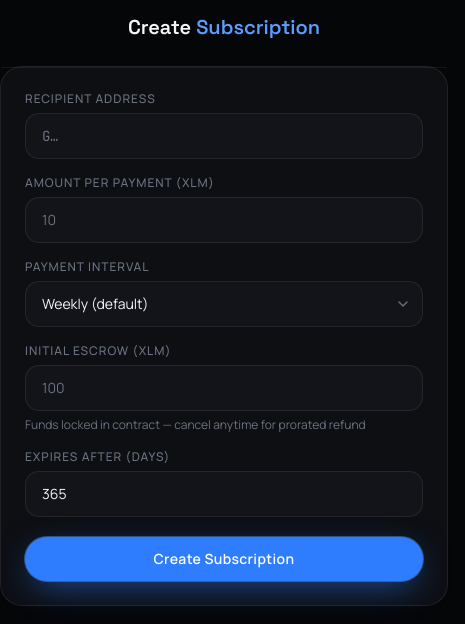
Scenario: SubscribeForm › shows error when initial escrow is less than payment amount
In the field labelled "Recipient Address": (224, 136) [25,113,423,159], type "GAZ4FWKYGV2LIQFIVHI6ZLY6GU34TVYEQWZEKIRNJNW2R5UWXZXKEQRZ"
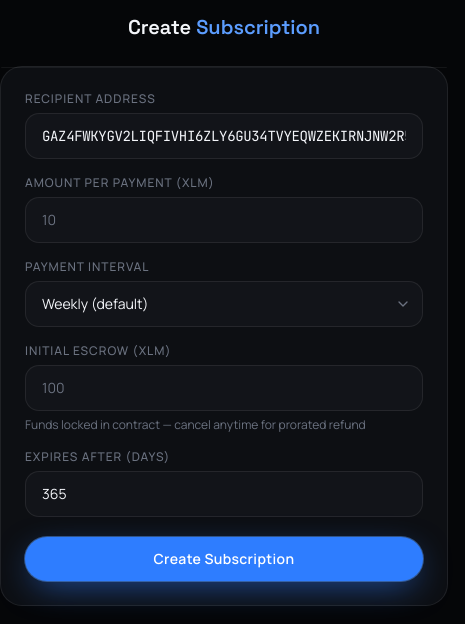
In the field labelled "Amount per Payment (XLM)": (224, 220) [25,197,423,243], type "100"
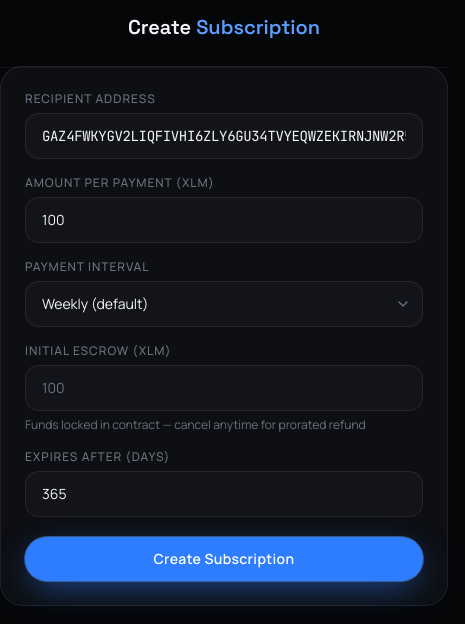
In the field labelled "Initial Escrow (XLM)": (224, 388) [25,365,423,411], type "50"
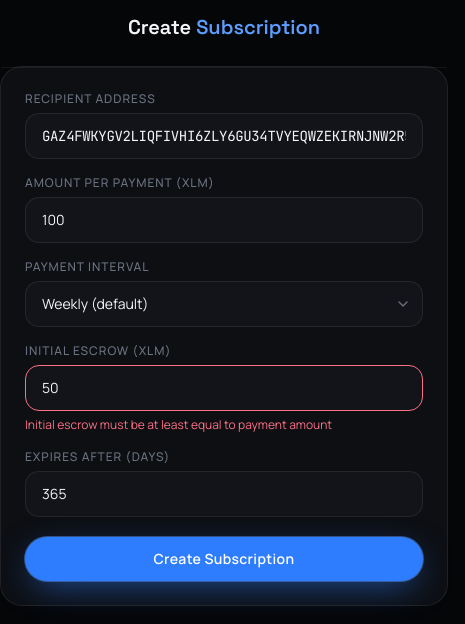
Expected: the button "Create Subscription" is disabled, [25,537,423,581]
Expected: the text "Initial escrow must be at least equal to payment amount" is shown, [25,416,332,433]
